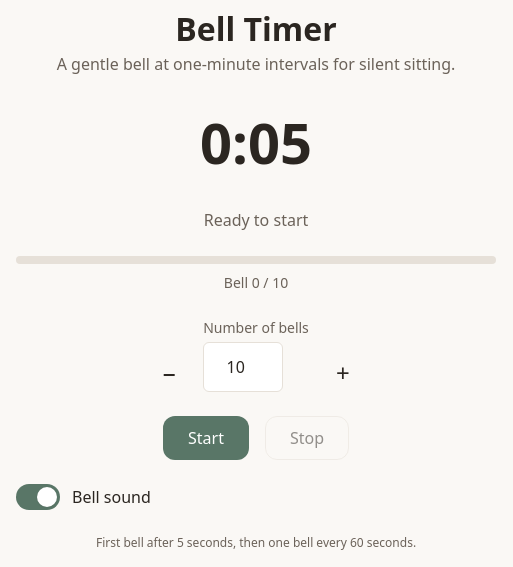
Test case: BellTimerPage › rings a bell (creates oscillators) once the delay elapses, and again each minute
Click the button "Start": (206, 438) [163, 416, 249, 460]
Wait 65000 ms
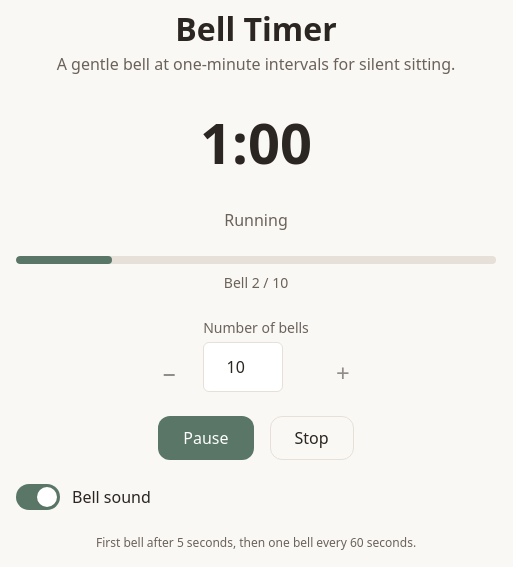
Now the text "Bell 2 / 10" is shown, box [224, 273, 288, 292]
